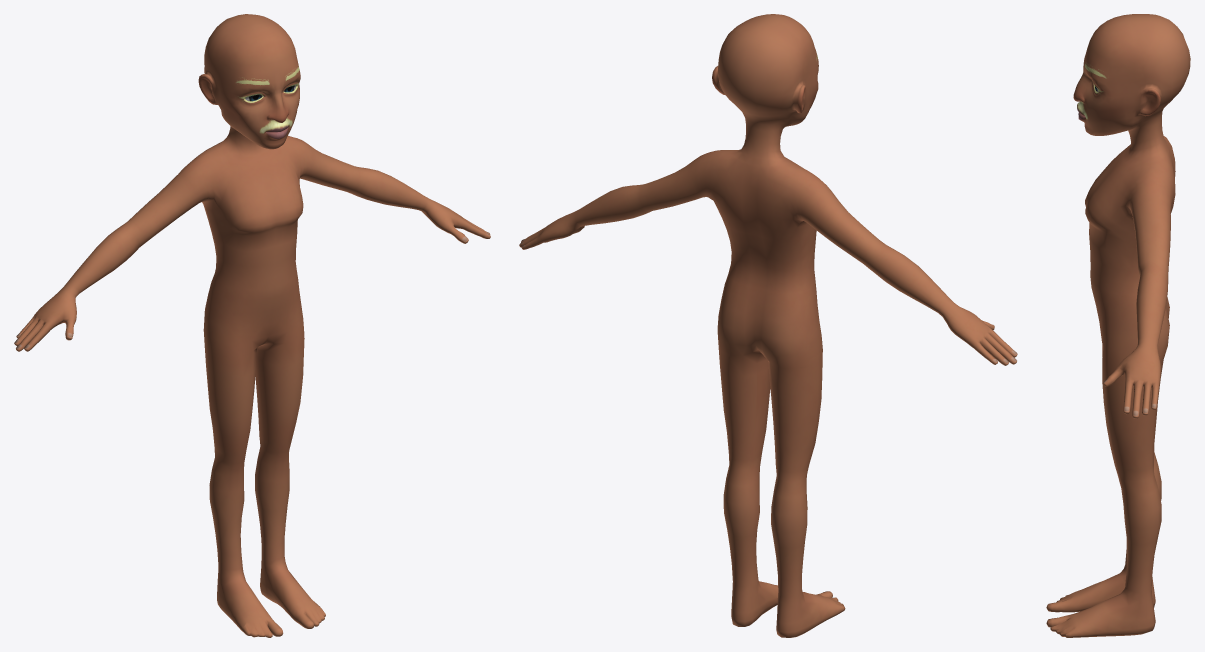
The model's file is frame_0068.glb.
3 views of the same model, side by side, from view 1: azimuth 30°, elevation 25°; view 2: azimuth 150°, elevation 25°; view 3: azimuth 270°, elevation 25° (orthographic). The views are drawn at different scales.
Visible parts, largest first — view 1: frame_0068_head_geo; view 2: frame_0068_head_geo; view 3: frame_0068_head_geo.
Boxes of the visible parts, left/top/right/bottom form: frame_0068_head_geo: left=14, top=14, right=490, bottom=637; frame_0068_head_geo: left=519, top=14, right=1017, bottom=637; frame_0068_head_geo: left=1046, top=14, right=1190, bottom=637.
Bounding box in the file's own units: 1.28 × 1.5 × 0.3253.
3 materials, 3 textured.
